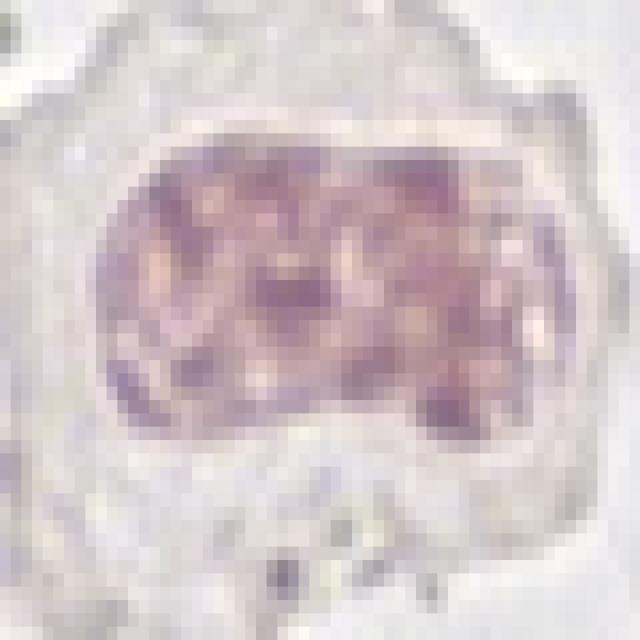cytoplasm: (5, 4, 626, 627)
nucleus: (81, 126, 578, 457)
